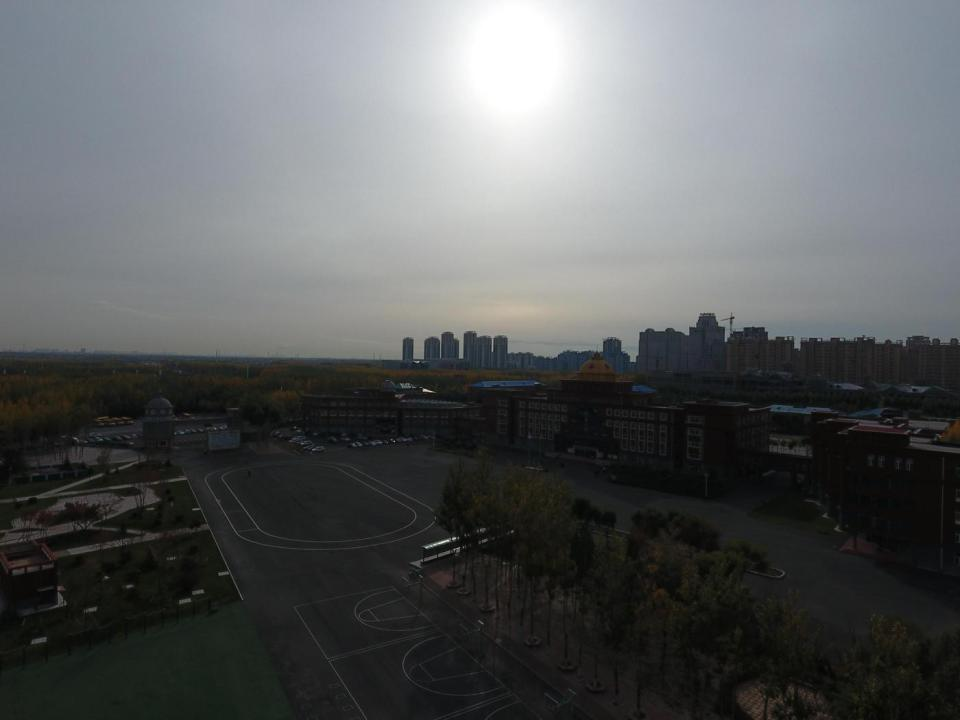bus: (180, 412, 195, 422), (91, 418, 104, 428), (165, 414, 179, 423), (111, 417, 124, 426), (120, 417, 134, 424), (97, 416, 109, 424), (103, 419, 115, 426)
car: (311, 446, 325, 452), (293, 435, 306, 441), (300, 440, 312, 446), (121, 434, 131, 441), (278, 435, 292, 440), (88, 433, 101, 438), (308, 446, 321, 451), (328, 437, 337, 444), (310, 443, 322, 448), (397, 437, 407, 443), (304, 445, 315, 450), (202, 427, 211, 433), (290, 425, 299, 431), (420, 434, 429, 440), (78, 439, 88, 444), (93, 437, 103, 442), (112, 436, 122, 441), (347, 443, 357, 448), (373, 440, 383, 445), (86, 437, 94, 443), (102, 436, 110, 442), (130, 434, 138, 440), (176, 430, 184, 436), (222, 425, 230, 431), (312, 430, 320, 436), (342, 436, 350, 442), (340, 431, 348, 437), (354, 442, 362, 448), (362, 441, 370, 447), (388, 438, 396, 444), (125, 442, 134, 447), (289, 438, 298, 443), (358, 435, 367, 440), (183, 429, 190, 435), (190, 428, 197, 434), (216, 426, 223, 432), (195, 428, 203, 433), (291, 436, 301, 440), (278, 434, 288, 438), (368, 441, 376, 446), (380, 440, 388, 445), (405, 437, 413, 442), (212, 426, 218, 432), (293, 440, 302, 444), (396, 438, 402, 444), (296, 441, 307, 444), (275, 430, 280, 436)
truck: (60, 435, 79, 446)
